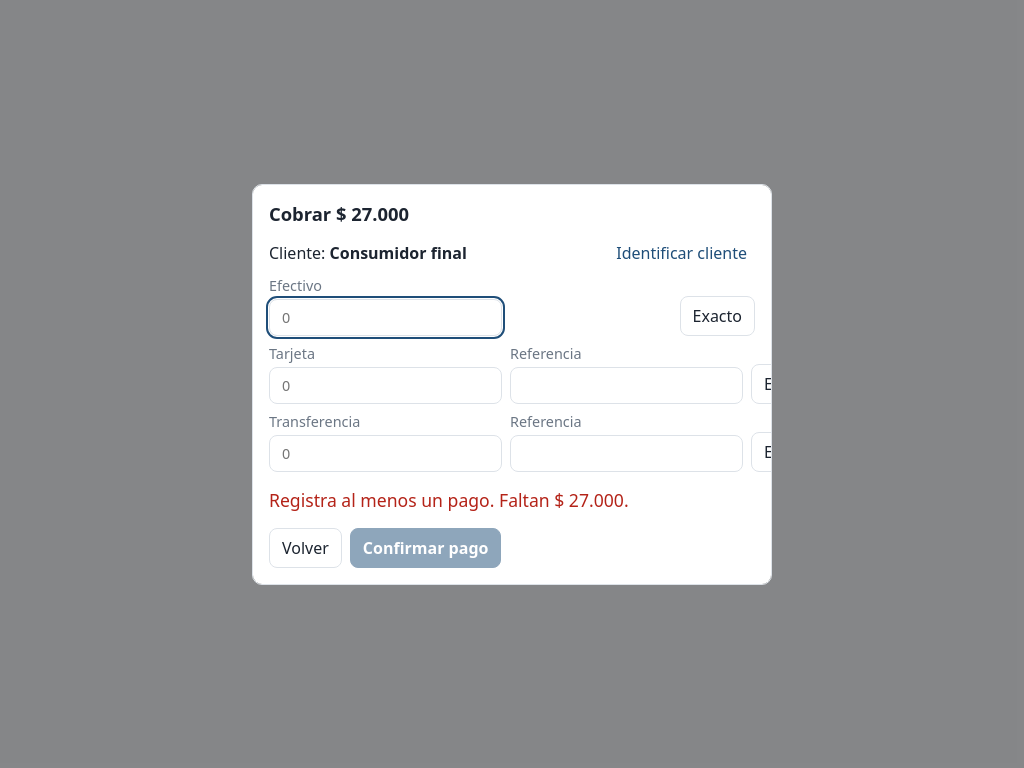
Test: Checkout de un pedido (spec 002) › sin red no va a la cola: los pedidos se cobran con conexión
The image size is (1024, 768).
Click the 1st button "Exacto".
click(717, 316)  # box [680, 296, 755, 336]
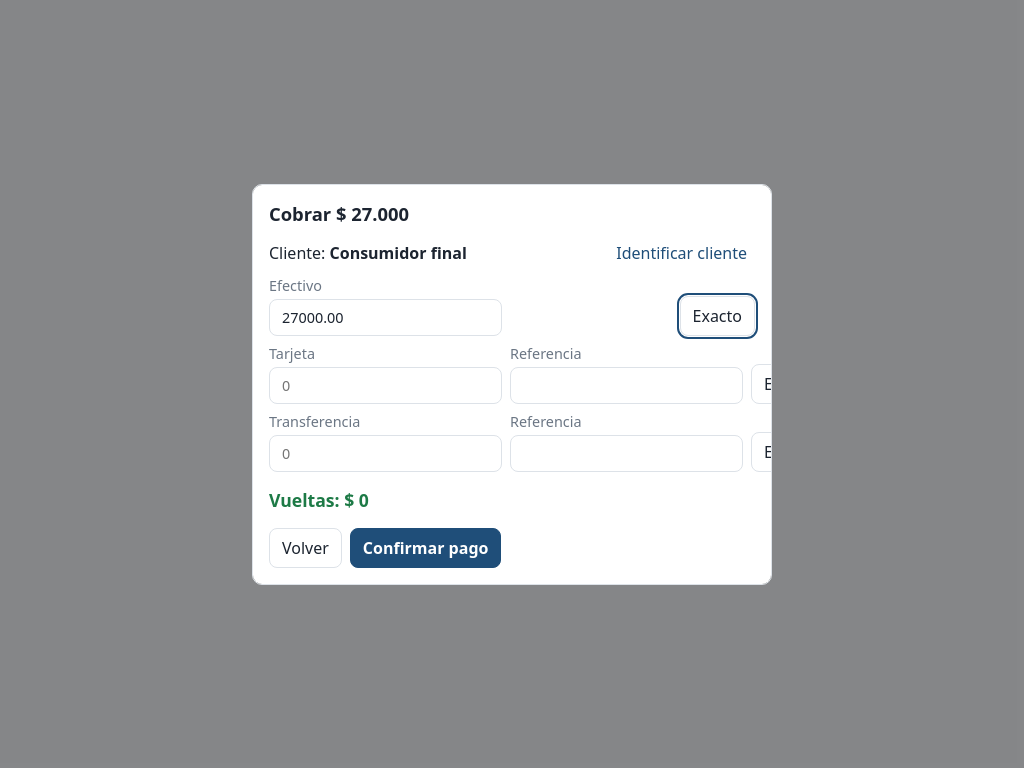
Click the button "Confirmar pago".
click(426, 548)  # box [350, 528, 502, 568]
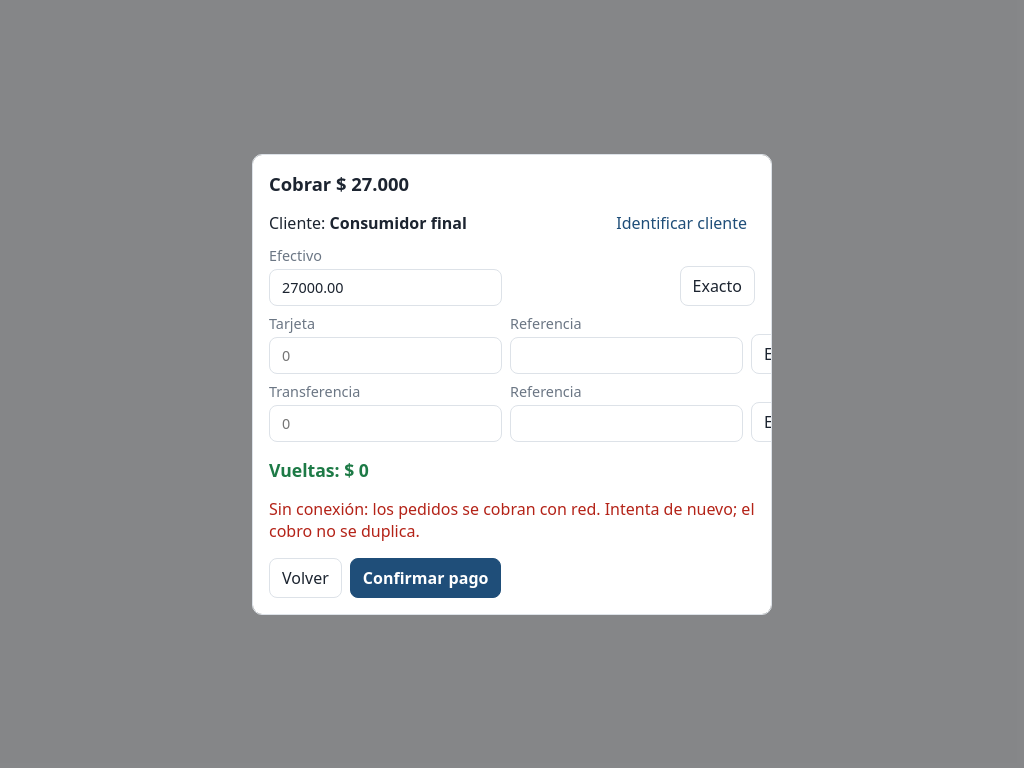
Expected: the message shows "los pedidos se cobran con red", [269, 498, 754, 542]
